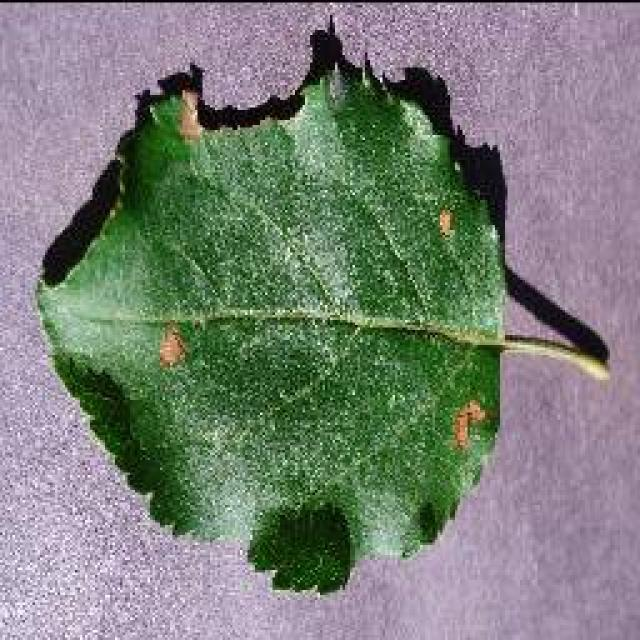Black_rot: (32, 13, 610, 595)
